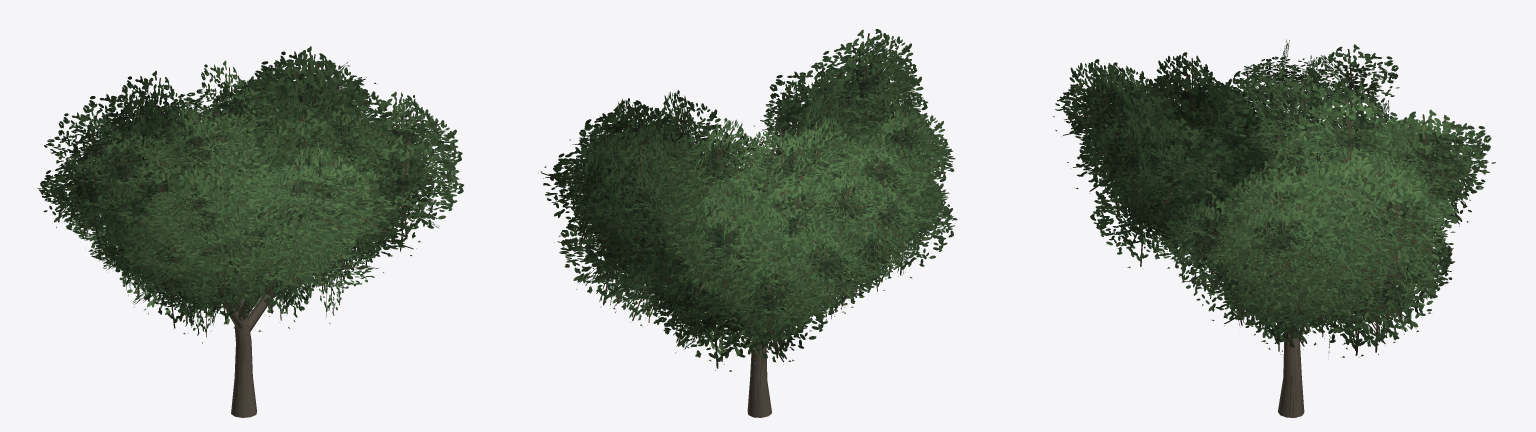
File: tree_zelkova_0.glb
The picture shows the model from 3 angles, left to right: view 1: azimuth 30°, elevation 25°; view 2: azimuth 150°, elevation 25°; view 3: azimuth 270°, elevation 25°; orthographic projection. The views are drawn at different scales.
Parts seen in each view (by area): view 1: tree_zelkova_0_LOD0; view 2: tree_zelkova_0_LOD0; view 3: tree_zelkova_0_LOD0.
Part boxes in pixels (<box>): tree_zelkova_0_LOD0: <box>37,46,464,417</box>; tree_zelkova_0_LOD0: <box>540,29,957,417</box>; tree_zelkova_0_LOD0: <box>1052,39,1495,417</box>.
Size of what is drawn, in the model's own units: 13.35 by 10.87 by 14.15.
1 material, 1 textured.
